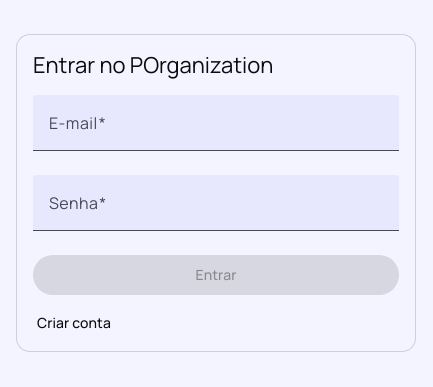
Scenario: LoginComponent › com erro do Supabase, mostra a mensagem na tela
Type "pedro@teste.com" into the field labelled "E-mail".
click(216, 131); type("pedro@teste.com")  # box x1=49 y1=119 x2=383 y2=143
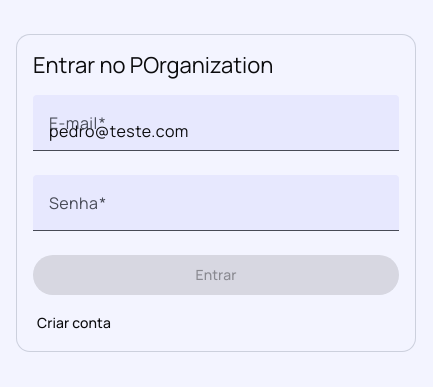
Type "segredo123" into the password field labelled "Senha".
click(216, 211); type("segredo123")  # box x1=49 y1=199 x2=383 y2=223
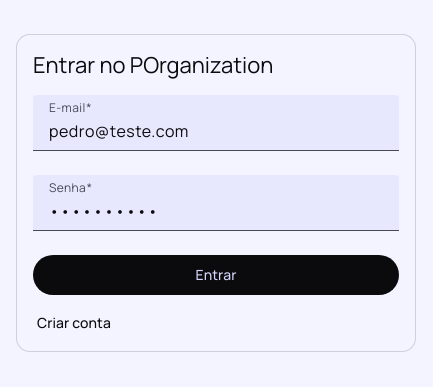
Submit the form, box x1=33 y1=79 x2=399 y2=295
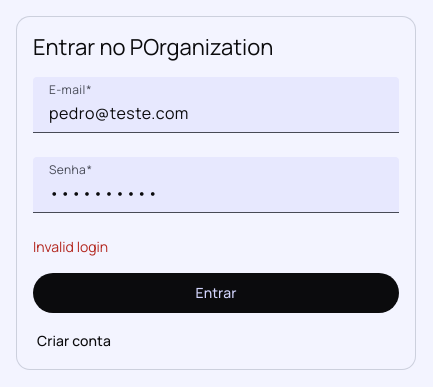
Now the text "Invalid login" is shown, box x1=33 y1=237 x2=108 y2=256
